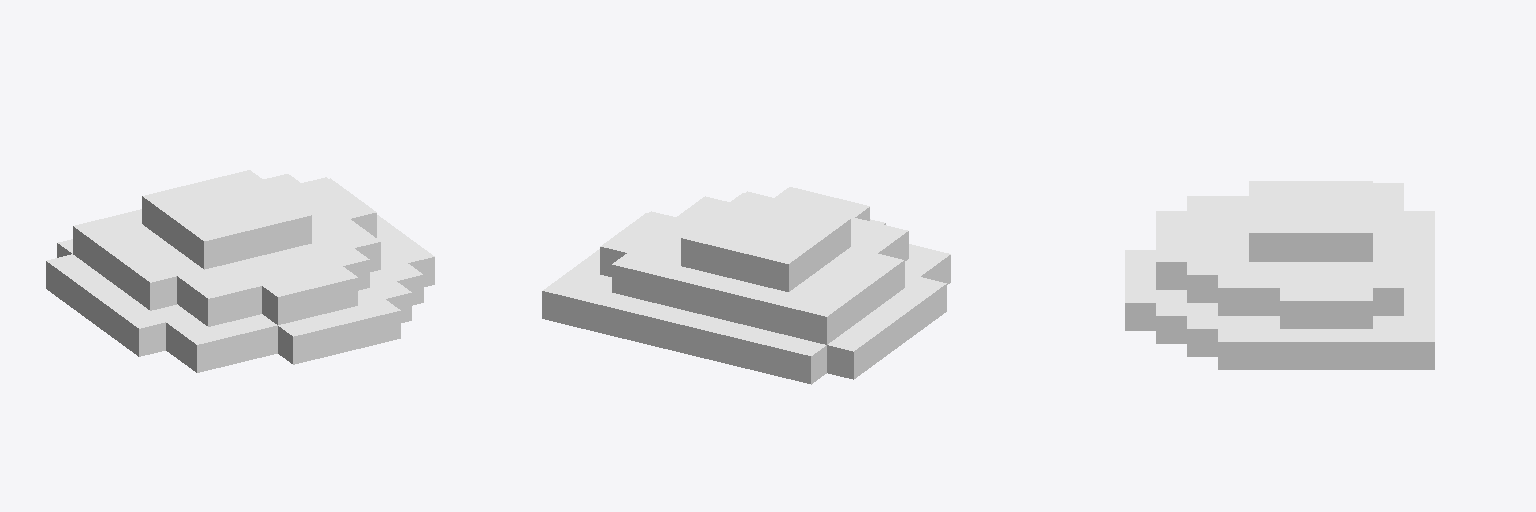
Rendered from Plants-2.obj.
3 renders of one model, left to right at view 1: azimuth 30°, elevation 25°; view 2: azimuth 150°, elevation 25°; view 3: azimuth 270°, elevation 25°, orthographic.
Visible parts, largest first — view 1: object 1; view 2: object 1; view 3: object 1.
Part boxes in pixels (bbox=[...]): object 1: bbox=[46, 170, 434, 372]; object 1: bbox=[542, 187, 950, 384]; object 1: bbox=[1125, 181, 1434, 369].
Bounding box in the file's own units: 1.1 × 0.3 × 1.